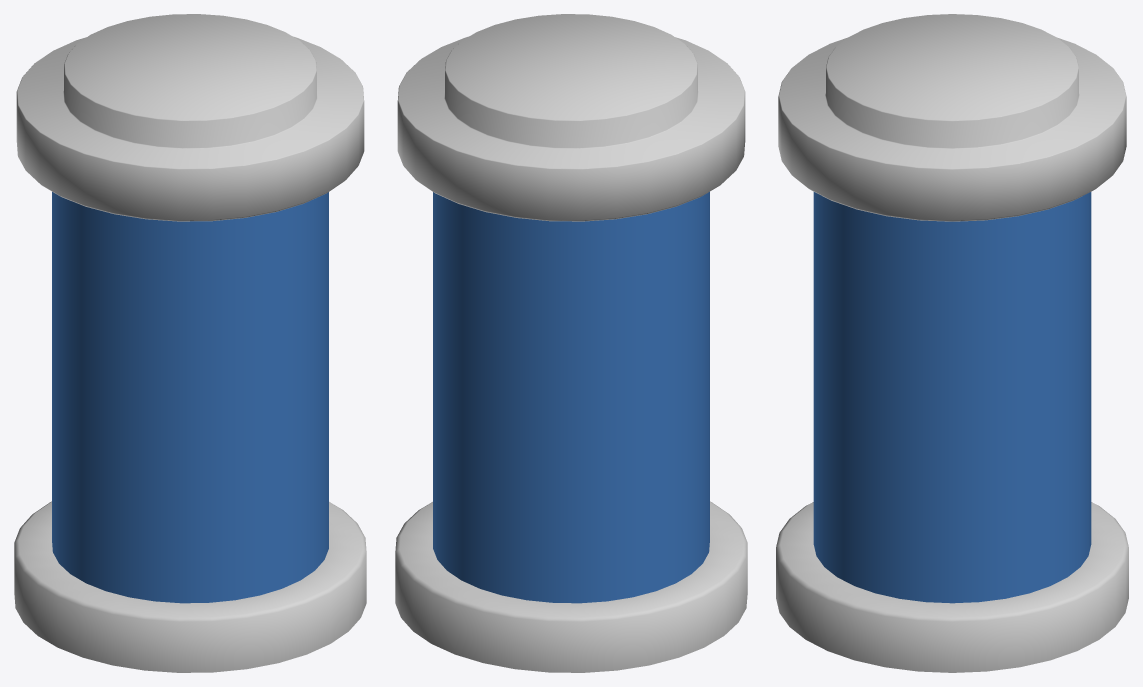
The model's file is mdl_tube.fbx.
3 views of the same model, side by side, from view 1: azimuth 30°, elevation 25°; view 2: azimuth 150°, elevation 25°; view 3: azimuth 270°, elevation 25° (orthographic).
Visible parts, largest first — view 1: mesh_tube; view 2: mesh_tube; view 3: mesh_tube.
Part boxes in pixels (x1,y1,x2,y2): mesh_tube: [14, 14, 366, 672]; mesh_tube: [395, 14, 747, 672]; mesh_tube: [776, 14, 1128, 672].
Size of the model in its own units: 5.09 by 8.45 by 5.09.
